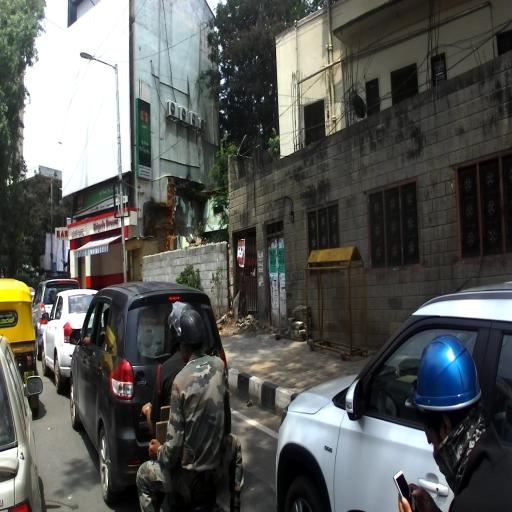street_light_0: (80, 52, 117, 71)
